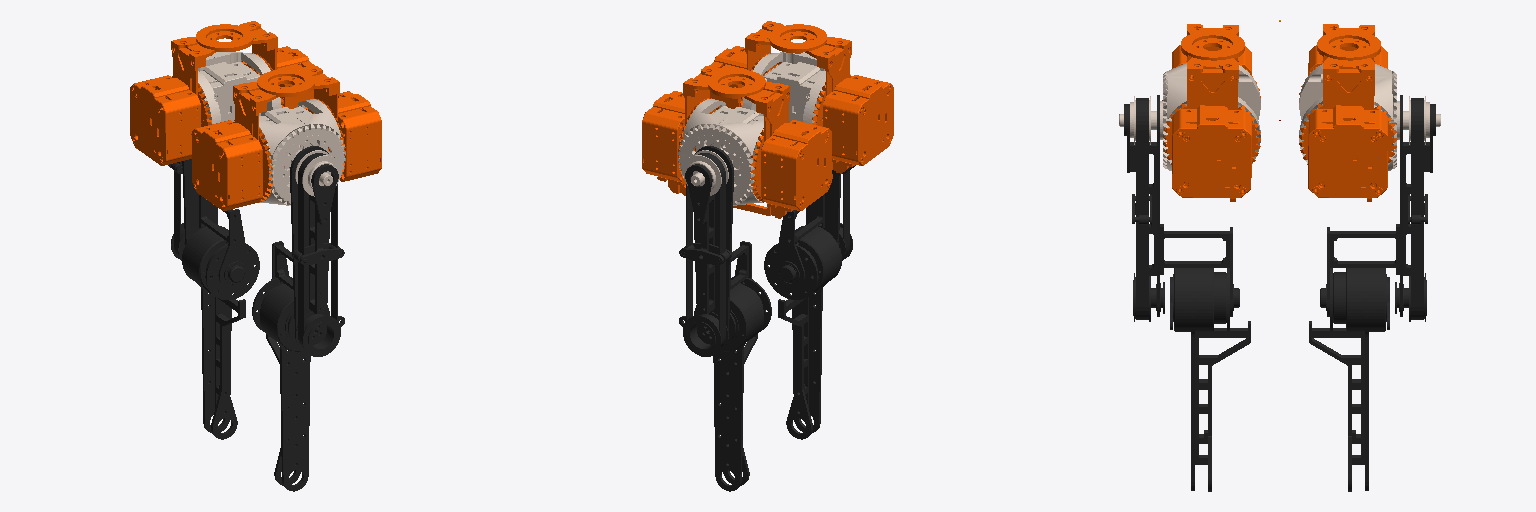
robot.urdf — clala:
<?xml version="1.0" ?>
<!-- =================================================================================== -->
<!-- |    This document was autogenerated by xacro from wwlambda_r2.xacro              | -->
<!-- |    EDITING THIS FILE BY HAND IS NOT RECOMMENDED                                 | -->
<!-- =================================================================================== -->
<robot name="clala" xmlns:xacro="http://ros.org/wiki/xacro">
  <material name="black">
    <color rgba="0.0 0.0 0.0 1.0"/>
  </material>
  <material name="blue">
    <color rgba="0.0 0.0 0.8 1.0"/>
  </material>
  <material name="green">
    <color rgba="0.0 0.8 0.0 1.0"/>
  </material>
  <material name="grey">
    <color rgba="0.2 0.2 0.2 1.0"/>
  </material>
  <material name="silver">
    <color rgba="0.9137254901960784 0.9137254901960784 0.8470588235294118 1.0"/>
  </material>
  <material name="orange">
    <color rgba="1.0 0.4235294117647059 0.0392156862745098 1.0"/>
  </material>
  <material name="brown">
    <color rgba="0.8705882352941177 0.8117647058823529 0.7647058823529411 1.0"/>
  </material>
  <material name="red">
    <color rgba="0.8 0.0 0.0 1.0"/>
  </material>
  <material name="white">
    <color rgba="1.0 1.0 1.0 1.0"/>
  </material>
  <link name="base">
    <visual>
      <origin rpy="0 0 0" xyz="0 0 0"/>
      <geometry>
        <box size="0.001 0.001 0.001"/>
      </geometry>
    </visual>
    <inertial>
      <origin rpy="0 0 0" xyz="0 0 0"/>
      <mass value="0.1"/>
      <inertia ixx=".00001" ixy="0." ixz=".015" iyy=".00001" iyz=".0" izz=".00001"/>
    </inertial>
  </link>
  <joint name="floating_base" type="fixed">
    <!-- <origin rpy="0 0 0" xyz="0 0 -0.042"/> -->
    <origin rpy="0 0 0" xyz="0 0 0.085"/>
    <parent link="trunk"/>
    <child link="base"/>
  </joint>
  <link name="trunk">
    <visual>
      <origin rpy="0 0 0" xyz="0 0 0"/>
      <geometry>
        <mesh filename="../meshes/newlambda_torso3.stl" scale="1 1 1"/>
      </geometry>
      <material name="grey"/>
    </visual>
    <collision>
      <origin rpy="0 0 0" xyz="0 0 0.107"/>
      <geometry>
        <box size="0.062 0.172 0.084"/>
      </geometry>
    </collision>
    <inertial>
      <origin rpy="0 0 0" xyz="0.001131 0 0.086906"/>
      <mass value="2.3605"/>
      <inertia ixx="32097354.4e-9" ixy="19274.6e-9" ixz="191773.5e-9" iyy="30113428.7e-9" iyz="-109484.6e-9" izz="5761405.7e-9"/>
    </inertial>
  </link>
  <joint name="imu_joint" type="fixed">
    <parent link="trunk"/>
    <child link="imu_link"/>
    <origin rpy="0 0 0" xyz="0 0 0"/>
  </joint>
  <link name="imu_link">
    <inertial>
      <mass value="0.001"/>
      <origin rpy="0 0 0" xyz="0 0 0"/>
      <inertia ixx="0.0001" ixy="0" ixz="0" iyy="0.000001" iyz="0" izz="0.0001"/>
    </inertial>
    <visual>
      <origin rpy="0 0 0" xyz="0 0 0"/>
      <geometry>
        <box size="0.001 0.001 0.001"/>
      </geometry>
      <material name="red"/>
    </visual>
    <collision>
      <origin rpy="0 0 0" xyz="0 0 0"/>
      <geometry>
        <box size=".001 .001 .001"/>
      </geometry>
    </collision>
  </link>
  <joint name="L_hip_joint" type="revolute">
    <origin rpy="0 0 0" xyz="0.0 0.053 0"/>
    <parent link="trunk"/>
    <child link="L_hip"/>
    <axis xyz="0 0 1"/>
    <dynamics damping="0.1" friction="0.0"/>
    <limit effort="10.0" lower="-0.2" upper="0.2" velocity="20"/>
  </joint>
  <link name="L_hip">
    <visual>
      <origin rpy="0.0 0 0" xyz="0 0 0"/>
      <geometry>
        <mesh filename="../meshes/ww_lambda_right_hip.stl" scale="1 1 1 "/>
      </geometry>
      <material name="orange"/>
    </visual>
    <collision>
      <origin rpy="0 0 0" xyz="0 0 0"/>
      <geometry>
        <box size="0.154 0.062 0.062"/>
      </geometry>
    </collision>
    <inertial>
      <origin rpy="0 0 0" xyz="0 0.000334 0.003935"/>
      <mass value="0.652898"/>
      <inertia ixx="534478.410e-9" ixy="192.291e-9" ixz="-1.325e-9" iyy="2262361.698e-9" iyz="5777.021e-9" izz="2094559.879e-9"/>
    </inertial>
  </link>
  <joint name="L_hip2_joint" type="revolute">
    <origin rpy="0 0 0" xyz="0 0 0"/>
    <parent link="L_hip"/>
    <child link="L_hip2"/>
    <axis xyz="1 0 0"/>
    <dynamics damping="0.1" friction="0.0"/>
    <limit effort="10.0" lower="-0.2" upper="1.0" velocity="20"/>
  </joint>
  <link name="L_hip2">
    <visual>
      <origin rpy="0 0 0" xyz="0 0 0"/>
      <geometry>
        <mesh filename="../meshes/ww_lambda_right_hip_joint_r2.stl" scale="1 -1 1 "/>
      </geometry>
      <material name="brown"/>
    </visual>
    <inertial>
      <origin rpy="0 0 0" xyz="0.0 0.0111622 -0.000255"/>
      <mass value="0.404998"/>
      <inertia ixx="289373.105e-9" ixy="43.945e-9" ixz="-31.242e-9" iyy="243507.837e-9" iyz="-1291.490e-9" izz="298143.715e-9"/>
    </inertial>
  </link>
  <joint name="L_thigh_joint" type="revolute">
    <origin rpy="0 0.0 0" xyz="0 0.040 0"/>
    <parent link="L_hip2"/>
    <child link="L_thigh"/>
    <axis xyz="0 1 0"/>
    <joint_properties damping="0.1" friction="0.0"/>
    <limit effort="10.0" lower="-1.57" upper="0.3" velocity="20"/>
  </joint>
  <link name="L_thigh">
    <visual>
      <origin rpy="0 0 0" xyz="0 0 0"/>
      <geometry>
        <mesh filename="../meshes/ww_lambda_right_thigh_r2.stl" scale="1 -1 1 "/>
      </geometry>
      <material name="grey"/>
    </visual>
    <collision>
      <origin rpy="0 0 0" xyz="0 0.011 -0.0762"/>
      <geometry>
        <box size="0.040 0.022 0.112"/>
      </geometry>
    </collision>
    <inertial>
      <origin rpy="0 0 0" xyz="0.00044 -0.016322 -0.134420"/>
      <mass value="0.366608"/>
      <inertia ixx="786472.731e-9" ixy="57.238e-9" ixz="333.551e-9" iyy="678521.016e-9" iyz="-166135.332e-9" izz="208660.299e-9"/>
    </inertial>
  </link>
  <joint name="L_calf_joint" type="revolute">
    <!-- <origin rpy="0 ${calf_angle} 0" xyz="0 -0.0038 -0.1524"/> -->
    <origin rpy="0 0.0 0" xyz="0 -0.0238 -0.1524"/>
    <parent link="L_thigh"/>
    <child link="L_calf"/>
    <axis xyz="0 1 0"/>
    <joint_properties damping="0.1" friction="0.0"/>
    <limit effort="10.0" lower="0.0" upper="2.5" velocity="20"/>
  </joint>
  <link name="L_calf">
    <visual>
      <origin rpy="0 0 0" xyz="0 0 0"/>
      <geometry>
        <mesh filename="../meshes/ww_lambda_right_shin_r2.stl" scale="1 -1 1 "/>
      </geometry>
      <material name="grey"/>
    </visual>
    <collision>
      <origin rpy="0 0 0" xyz="0 0.009 -0.0762"/>
      <geometry>
        <box size="0.030 0.024 0.112"/>
      </geometry>
    </collision>
    <inertial>
      <origin rpy="0 0 0" xyz="0.0 -0.007683 -0.078768"/>
      <mass value="0.056674"/>
      <inertia ixx="165297.155e-9" ixy="-0.046e-9" ixz="-0.870e-9" iyy="162576.784e-9" iyz="222.311e-9" izz="8384.868e-9"/>
    </inertial>
  </link>
  <joint name="L_toe_joint" type="revolute">
    <origin rpy="0 0.0 0" xyz="0 -0.0079 -0.1524"/>
    <parent link="L_calf"/>
    <child link="L_toe"/>
    <axis xyz="0 1 0"/>
    <joint_properties damping="0.1" friction="0.0"/>
    <limit effort="4.0" lower="-1.57" upper="1.57" velocity="20"/>
  </joint>
  <link name="L_toe">
    <visual>
      <origin rpy="0 0 0" xyz="0 0 0"/>
      <geometry>
        <mesh filename="../meshes/foot.stl" scale="1 1 1 "/>
      </geometry>
      <material name="green"/>
    </visual>
    <collision>
      <origin rpy="0 0 0" xyz="0 0 -0.0265"/>
      <geometry>
        <box size="0.120 0.040 0.021"/>
      </geometry>
    </collision>
    <inertial>
      <origin rpy="0 0 0" xyz="0 0.001619 -0.016022"/>
      <mass value="0.049085"/>
      <inertia ixx="7532.090e-9" 
                     ixy="-0.005e-9" iyy="28428.656e-9" 
                     ixz="0.037e-9" iyz="-1279.852e-9" izz="25997.217e-9"/>
      <!-- バタつくのでHECTORの足データを持ってきた -->
      <!-- <mass value="${toe_mass}"/> -->
      <!-- <inertia ixx="5.7298e-05" ixy="0.0" ixz="0.0" iyy="0.000290752" iyz="0.0" izz="0.000249491"/> -->
    </inertial>
  </link>
  <joint name="R_hip_joint" type="revolute">
    <origin rpy="0 0 0" xyz="0.0 -0.053 0"/>
    <parent link="trunk"/>
    <child link="R_hip"/>
    <axis xyz="0 0 1"/>
    <dynamics damping="0.1" friction="0.0"/>
    <limit effort="10.0" lower="-0.2" upper="0.2" velocity="20"/>
  </joint>
  <link name="R_hip">
    <visual>
      <origin rpy="0.0 0 0" xyz="0 0 0"/>
      <geometry>
        <mesh filename="../meshes/ww_lambda_right_hip.stl" scale="1 1 1"/>
      </geometry>
      <material name="orange"/>
    </visual>
    <collision>
      <origin rpy="0 0 0" xyz="0 0 0"/>
      <geometry>
        <box size="0.154 0.062 0.062"/>
      </geometry>
    </collision>
    <inertial>
      <origin rpy="0 0 0" xyz="0 0.000334 0.003935"/>
      <mass value="0.652898"/>
      <inertia ixx="534478.410e-9" ixy="192.291e-9" ixz="-1.325e-9" iyy="2262361.698e-9" iyz="5777.021e-9" izz="2094559.879e-9"/>
    </inertial>
  </link>
  <joint name="R_hip2_joint" type="revolute">
    <origin rpy="0 0 0" xyz="0 0 0"/>
    <parent link="R_hip"/>
    <child link="R_hip2"/>
    <axis xyz="1 0 0"/>
    <dynamics damping="0.1" friction="0.0"/>
    <limit effort="10.0" lower="-1.0" upper="0.2" velocity="20"/>
  </joint>
  <link name="R_hip2">
    <visual>
      <origin rpy="0 0 0" xyz="0 0 0"/>
      <geometry>
        <mesh filename="../meshes/ww_lambda_right_hip_joint_r2.stl" scale="1 1 1"/>
      </geometry>
      <material name="brown"/>
    </visual>
    <inertial>
      <origin rpy="0 0 0" xyz="0.0 -0.0111622 -0.000255"/>
      <mass value="0.404998"/>
      <inertia ixx="289373.105e-9" ixy="-43.945e-9" ixz="-31.242e-9" iyy="243507.837e-9" iyz="1291.490e-9" izz="298143.715e-9"/>
    </inertial>
  </link>
  <joint name="R_thigh_joint" type="revolute">
    <origin rpy="0 0.0 0" xyz="0 -0.040 0"/>
    <parent link="R_hip2"/>
    <child link="R_thigh"/>
    <axis xyz="0 1 0"/>
    <joint_properties damping="0.1" friction="0.0"/>
    <limit effort="10.0" lower="-1.57" upper="0.3" velocity="20"/>
  </joint>
  <link name="R_thigh">
    <visual>
      <origin rpy="0 0 0" xyz="0 0 0"/>
      <geometry>
        <mesh filename="../meshes/ww_lambda_right_thigh_r2.stl" scale="1 1 1"/>
      </geometry>
      <material name="grey"/>
    </visual>
    <collision>
      <origin rpy="0 0 0" xyz="0 -0.011 -0.0762"/>
      <geometry>
        <box size="0.040 0.022 0.112"/>
      </geometry>
    </collision>
    <inertial>
      <origin rpy="0 0 0" xyz="0.00044 0.016322 -0.134420"/>
      <mass value="0.366608"/>
      <inertia ixx="786472.731e-9" ixy="-57.238e-9" ixz="333.551e-9" iyy="678521.016e-9" iyz="166135.332e-9" izz="208660.299e-9"/>
    </inertial>
  </link>
  <joint name="R_calf_joint" type="revolute">
    <!-- <origin rpy="0 ${calf_angle} 0" xyz="0 0.0038 -0.1524"/> -->
    <origin rpy="0 0.0 0" xyz="0 0.0238 -0.1524"/>
    <parent link="R_thigh"/>
    <child link="R_calf"/>
    <axis xyz="0 1 0"/>
    <joint_properties damping="0.1" friction="0.0"/>
    <limit effort="10.0" lower="0.0" upper="2.5" velocity="20"/>
  </joint>
  <link name="R_calf">
    <visual>
      <origin rpy="0 0 0" xyz="0 0 0"/>
      <geometry>
        <mesh filename="../meshes/ww_lambda_right_shin_r2.stl" scale="1 1 1"/>
      </geometry>
      <material name="grey"/>
    </visual>
    <collision>
      <origin rpy="0 0 0" xyz="0 -0.009 -0.0762"/>
      <geometry>
        <box size="0.030 0.024 0.112"/>
      </geometry>
    </collision>
    <inertial>
      <origin rpy="0 0 0" xyz="0.0 0.007683 -0.078768"/>
      <mass value="0.056674"/>
      <inertia ixx="165297.155e-9" ixy="0.046e-9" ixz="-0.870e-9" iyy="162576.784e-9" iyz="-222.311e-9" izz="8384.868e-9"/>
    </inertial>
  </link>
  <joint name="R_toe_joint" type="revolute">
    <origin rpy="0 0.0 0" xyz="0 0.0079 -0.1524"/>
    <parent link="R_calf"/>
    <child link="R_toe"/>
    <axis xyz="0 1 0"/>
    <joint_properties damping="0.1" friction="0.0"/>
    <limit effort="4.0" lower="-1.57" upper="1.57" velocity="20"/>
  </joint>
  <link name="R_toe">
    <visual>
      <origin rpy="0 0 0" xyz="0 0 0"/>
      <geometry>
        <mesh filename="../meshes/foot.stl" scale="1 1 1"/>
      </geometry>
      <material name="green"/>
    </visual>
    <collision>
      <origin rpy="0 0 0" xyz="0 0 -0.0265"/>
      <geometry>
        <box size="0.120 0.040 0.021"/>
      </geometry>
    </collision>
    <inertial>
      <origin rpy="0 0 0" xyz="0 -0.001757 -0.01608"/>
      <mass value="0.052588"/>
      <inertia ixx="8207.198e-9" 
                     ixy="-0.005e-9" iyy="31374.088e-9" 
                     ixz="-0.037e-9" iyz="1491.969e-9" izz="28656.920e-9"/>
      <!-- バタつくのでHECTORの足データを持ってきた -->
      <!-- <mass value="${toe_mass}"/> -->
      <!-- <inertia ixx="5.7298e-05" ixy="0.0" ixz="0.0" iyy="0.000290752" iyz="0.0" izz="0.000249491"/> -->
    </inertial>
  </link>
  <!-- <link name="bumper_LF">
    <visual>
      <origin rpy="0 0 0" xyz="0 0 0"/>
      <geometry>
        <box size="0.03 0.03 0.002"/>
      </geometry>
      <material name="red"/>
    </visual>
    <collision name="bumper_LF_collision">
      <origin rpy="0 0 0" xyz="0 0 0"/>
      <geometry name="bumper_LF_collision">
        <box size="0.028999999999999998 0.028999999999999998 0.001"/>
      </geometry>
    </collision>
    <inertial>
      <origin rpy="0 0 0" xyz="0 0 0"/>
      <mass value="0.001"/>
      <inertia ixx="1e-9" ixy="0" ixz="0" iyy="1e-9" iyz="0" izz="1e-9"/>
    </inertial>
  </link>
  <joint name="LF_bumper" type="fixed">
    <parent link="L_toe"/>
    <child link="bumper_LF"/>
    <origin rpy="0 0 0" xyz="0.035 0 -0.030000000000000002"/>
  </joint>
  <gazebo reference="bumper_LF">
    <material>Gazebo/Red</material>
    <selfCollide>true</selfCollide>
    <sensor name="bumper_LF_sensor" type="contact">
      <contact>
        <collision>L_toe_fixed_joint_lump__bumper_LF_collision_collision_2</collision>
      </contact>
      <plugin filename="libgazebo_ros_bumper.so" name="gazebo_ros_bumper_controller">
        <alwaysOn>true</alwaysOn>
        <updateRate>10.0</updateRate>
        <bumperTopicName>bumper_LF</bumperTopicName>
        <frameName>world</frameName>
      </plugin>
    </sensor>
  </gazebo>
  <link name="bumper_LB">
    <visual>
      <origin rpy="0 0 0" xyz="0 0 0"/>
      <geometry>
        <box size="0.03 0.03 0.002"/>
      </geometry>
      <material name="red"/>
    </visual>
    <collision name="bumper_LB_collision">
      <origin rpy="0 0 0" xyz="0 0 0"/>
      <geometry name="bumper_LB_collision">
        <box size="0.028999999999999998 0.028999999999999998 0.001"/>
      </geometry>
    </collision>
    <inertial>
      <origin rpy="0 0 0" xyz="0 0 0"/>
      <mass value="0.001"/>
      <inertia ixx="1e-9" ixy="0" ixz="0" iyy="1e-9" iyz="0" izz="1e-9"/>
    </inertial>
  </link>
  <joint name="LB_bumper" type="fixed">
    <parent link="L_toe"/>
    <child link="bumper_LB"/>
    <origin rpy="0 0 0" xyz="-0.035 0 -0.030000000000000002"/>
  </joint>
  <gazebo reference="bumper_LB">
    <material>Gazebo/Red</material>
    <selfCollide>true</selfCollide>
    <sensor name="bumper_LB_sensor" type="contact">
      <contact>
        <collision>L_toe_fixed_joint_lump__bumper_LB_collision_collision_1</collision>
      </contact>
      <plugin filename="libgazebo_ros_bumper.so" name="gazebo_ros_bumper_controller">
        <alwaysOn>true</alwaysOn>
        <updateRate>10.0</updateRate>
        <bumperTopicName>bumper_LB</bumperTopicName>
        <frameName>world</frameName>
      </plugin>
    </sensor>
  </gazebo>
  <link name="bumper_RF">
    <visual>
      <origin rpy="0 0 0" xyz="0 0 0"/>
      <geometry>
        <box size="0.03 0.03 0.002"/>
      </geometry>
      <material name="red"/>
    </visual>
    <collision name="bumper_RF_collision">
      <origin rpy="0 0 0" xyz="0 0 0"/>
      <geometry name="bumper_RF_collision">
        <box size="0.028999999999999998 0.028999999999999998 0.001"/>
      </geometry>
    </collision>
    <inertial>
      <origin rpy="0 0 0" xyz="0 0 0"/>
      <mass value="0.001"/>
      <inertia ixx="1e-9" ixy="0" ixz="0" iyy="1e-9" iyz="0" izz="1e-9"/>
    </inertial>
  </link>
  <joint name="RF_bumper" type="fixed">
    <parent link="R_toe"/>
    <child link="bumper_RF"/>
    <origin rpy="0 0 0" xyz="0.035 0 -0.030000000000000002"/>
  </joint>
  <gazebo reference="bumper_RF">
    <material>Gazebo/Red</material>
    <selfCollide>true</selfCollide>
    <sensor name="bumper_RF_sensor" type="contact">
      <contact>
        <collision>R_toe_fixed_joint_lump__bumper_RF_collision_collision_2</collision>
      </contact>
      <plugin filename="libgazebo_ros_bumper.so" name="gazebo_ros_bumper_controller">
        <alwaysOn>true</alwaysOn>
        <updateRate>10.0</updateRate>
        <bumperTopicName>bumper_RF</bumperTopicName>
        <frameName>world</frameName>
      </plugin>
    </sensor>
  </gazebo>
  <link name="bumper_RB">
    <visual>
      <origin rpy="0 0 0" xyz="0 0 0"/>
      <geometry>
        <box size="0.03 0.03 0.002"/>
      </geometry>
      <material name="red"/>
    </visual>
    <collision name="bumper_RB_collision">
      <origin rpy="0 0 0" xyz="0 0 0"/>
      <geometry name="bumper_RB_collision">
        <box size="0.028999999999999998 0.028999999999999998 0.001"/>
      </geometry>
    </collision>
    <inertial>
      <origin rpy="0 0 0" xyz="0 0 0"/>
      <mass value="0.001"/>
      <inertia ixx="1e-9" ixy="0" ixz="0" iyy="1e-9" iyz="0" izz="1e-9"/>
    </inertial>
  </link>
  <joint name="RB_bumper" type="fixed">
    <parent link="R_toe"/>
    <child link="bumper_RB"/>
    <origin rpy="0 0 0" xyz="-0.035 0 -0.030000000000000002"/>
  </joint>
  <gazebo reference="bumper_RB">
    <material>Gazebo/Red</material>
    <selfCollide>true</selfCollide>
    <sensor name="bumper_RB_sensor" type="contact">
      <contact>
        <collision>R_toe_fixed_joint_lump__bumper_RB_collision_collision_1</collision>
      </contact>
      <plugin filename="libgazebo_ros_bumper.so" name="gazebo_ros_bumper_controller">
        <alwaysOn>true</alwaysOn>
        <updateRate>10.0</updateRate>
        <bumperTopicName>bumper_RB</bumperTopicName>
        <frameName>world</frameName>
      </plugin>
    </sensor>
  </gazebo> -->
</robot>

--- Facts derived from the render (not from the file) ---
Views: 3 orthographic renders of the robot side by side, from view 1: azimuth 30°, elevation 25°; view 2: azimuth 150°, elevation 25°; view 3: azimuth 270°, elevation 25°.
Robot: clala — 13 links, 12 joints (10 revolute, 2 fixed); root link trunk; default pose: all joints at 0.
Links seen in each view (by area): view 1: R_hip, R_thigh, L_hip, L_thigh, R_hip2, L_calf, R_calf, L_hip2; view 2: L_hip, L_thigh, R_hip, R_thigh, L_hip2, R_calf, L_calf, R_hip2; view 3: L_hip, R_hip, L_thigh, R_thigh, L_calf, R_calf, R_hip2, L_hip2.
Boxes of the visible links, bbox=[...] form: R_hip: bbox=[191, 66, 381, 210]; R_thigh: bbox=[252, 146, 344, 356]; L_hip: bbox=[130, 21, 314, 165]; L_thigh: bbox=[168, 159, 259, 299]; R_hip2: bbox=[259, 99, 345, 205]; L_calf: bbox=[189, 233, 245, 439]; R_calf: bbox=[266, 290, 310, 491]; L_hip2: bbox=[198, 52, 281, 124]; L_hip: bbox=[642, 66, 832, 218]; L_thigh: bbox=[679, 146, 771, 356]; R_hip: bbox=[709, 21, 893, 173]; R_thigh: bbox=[764, 165, 855, 299]; L_hip2: bbox=[678, 99, 763, 205]; R_calf: bbox=[778, 230, 834, 439]; L_calf: bbox=[713, 290, 757, 491]; R_hip2: bbox=[742, 52, 850, 123]; L_hip: bbox=[1299, 24, 1397, 201]; R_hip: bbox=[1162, 24, 1260, 201]; L_thigh: bbox=[1320, 95, 1435, 331]; R_thigh: bbox=[1124, 95, 1239, 331]; L_calf: bbox=[1309, 273, 1368, 491]; R_calf: bbox=[1191, 273, 1250, 491]; R_hip2: bbox=[1119, 63, 1260, 170]; L_hip2: bbox=[1299, 64, 1440, 170].
Size in the robot's own frame: 0.154 by 0.25 by 0.4028 metres.
Meshes: 6 distinct files referenced, 8 mesh visuals loaded (4 binary STL); not drawn: 3 (reference not matched to a file when rendering).
